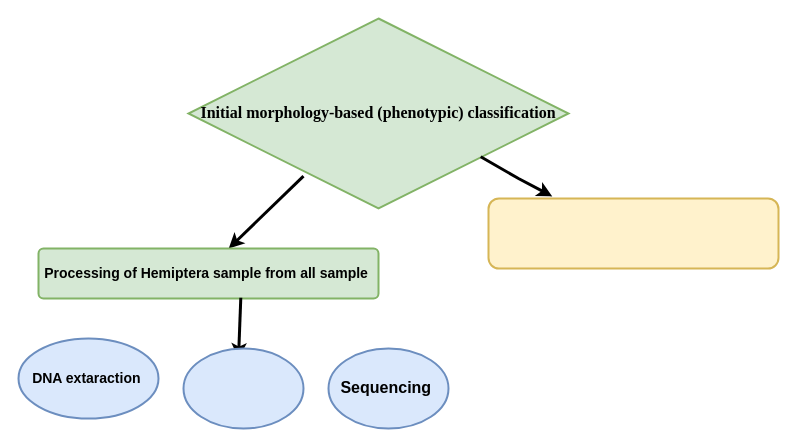
The diagram is 796 pixels wide and 446 high, and some of its shapes have lost their labels. The centre of each missing label's shape, as x and y in pixels:
"All other specimens will not be processed" goes at point 633,233.
"COI-gene Amplification" goes at point 243,388.
